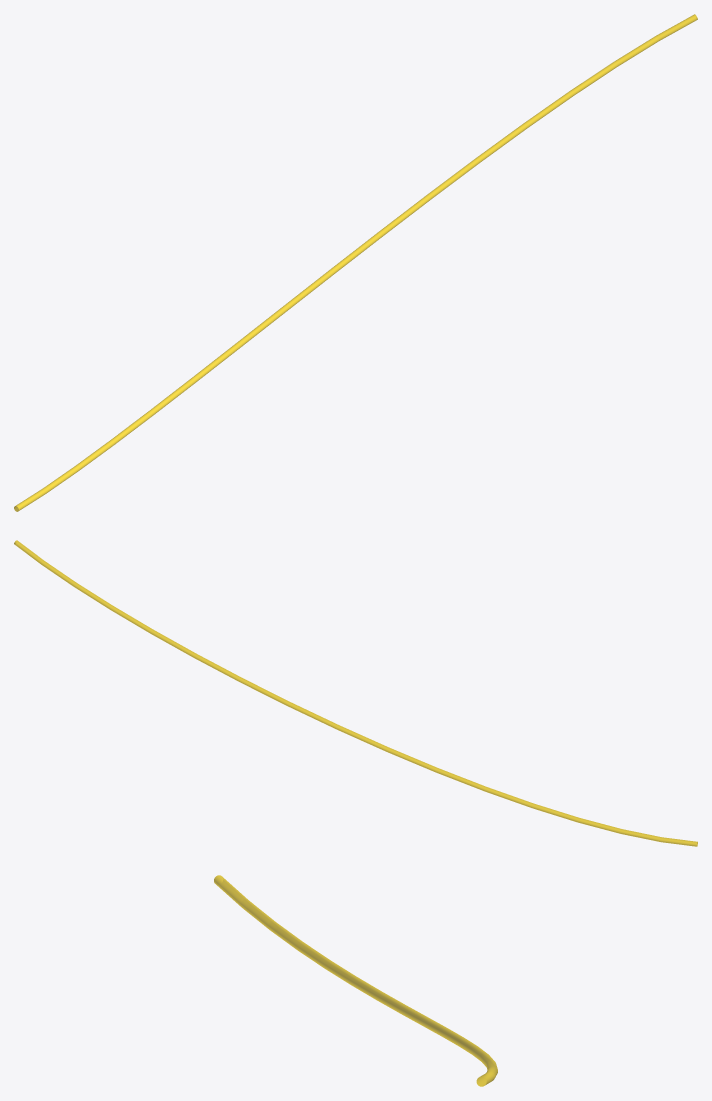
Rendered from Event_100608114_track_56.fbx.
3 renders of one model, top to bottom at view 1: azimuth 30°, elevation 25°; view 2: azimuth 150°, elevation 25°; view 3: azimuth 270°, elevation 25°, orthographic. The views are drawn at different scales.
Parts seen in each view (by area): view 1: Model; view 2: Model; view 3: Model.
Boxes of the visible parts, bbox=[...] form: Model: bbox=[14, 14, 697, 511]; Model: bbox=[14, 540, 697, 846]; Model: bbox=[214, 875, 497, 1086].
Size of the model in its own units: 5.59 by 1.77 by 1.11.
